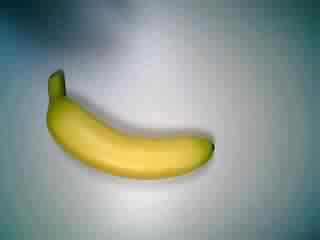banana: (41, 68, 215, 186)
